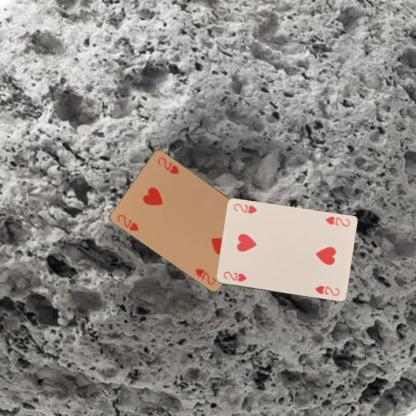2h: (115, 212, 140, 232), (322, 214, 351, 228), (221, 269, 248, 283)
